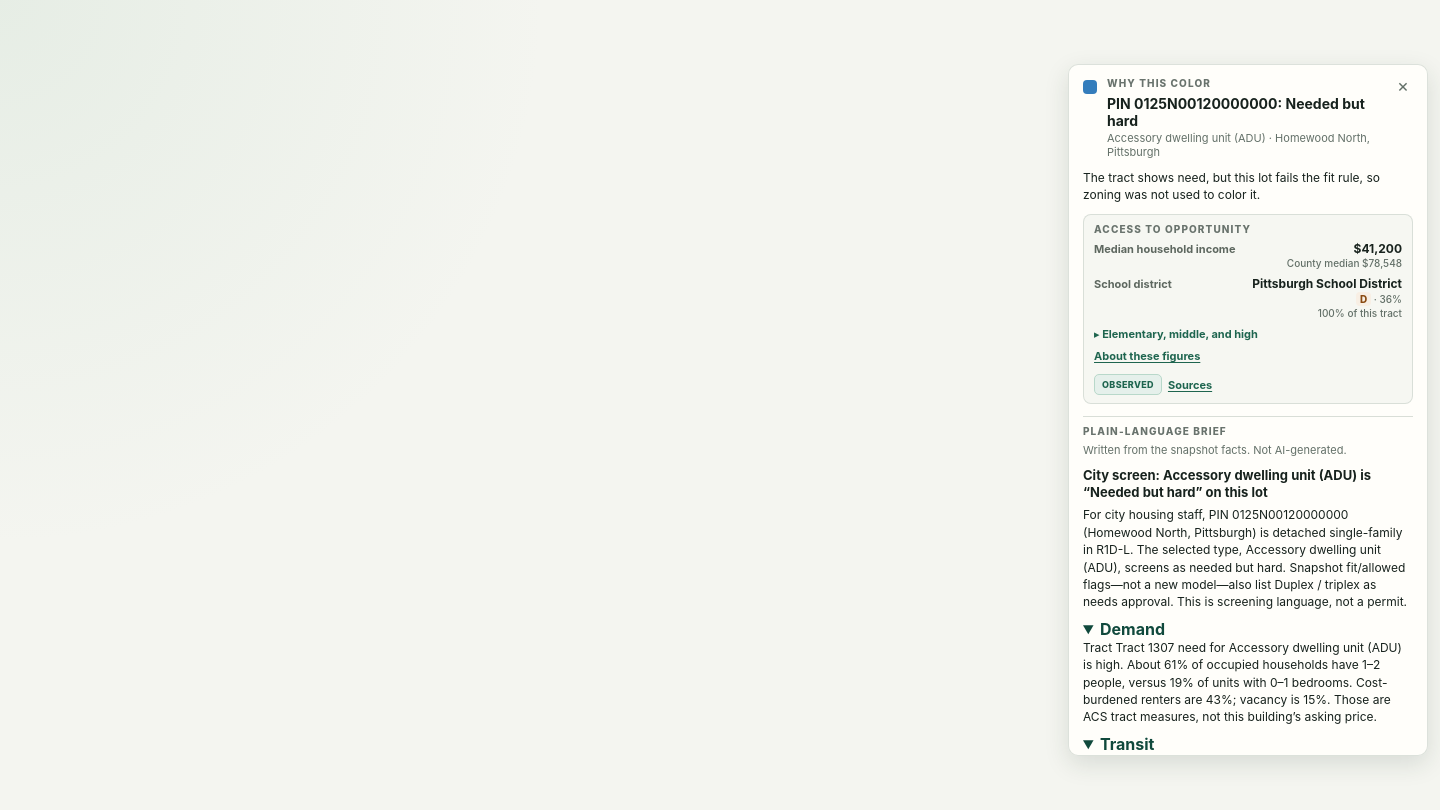
Test: ParcelCard › explains why the selected lot is that color
expect the heading "PIN 0125N00120000000: Needed but hard" is shown: met, box [1107, 95, 1383, 129]
expect the text "Median household income" is shown: met, box [1094, 242, 1236, 256]
Click the heading "Elementary, middle, and high". click: click(1180, 334)
box: [1102, 327, 1258, 341]
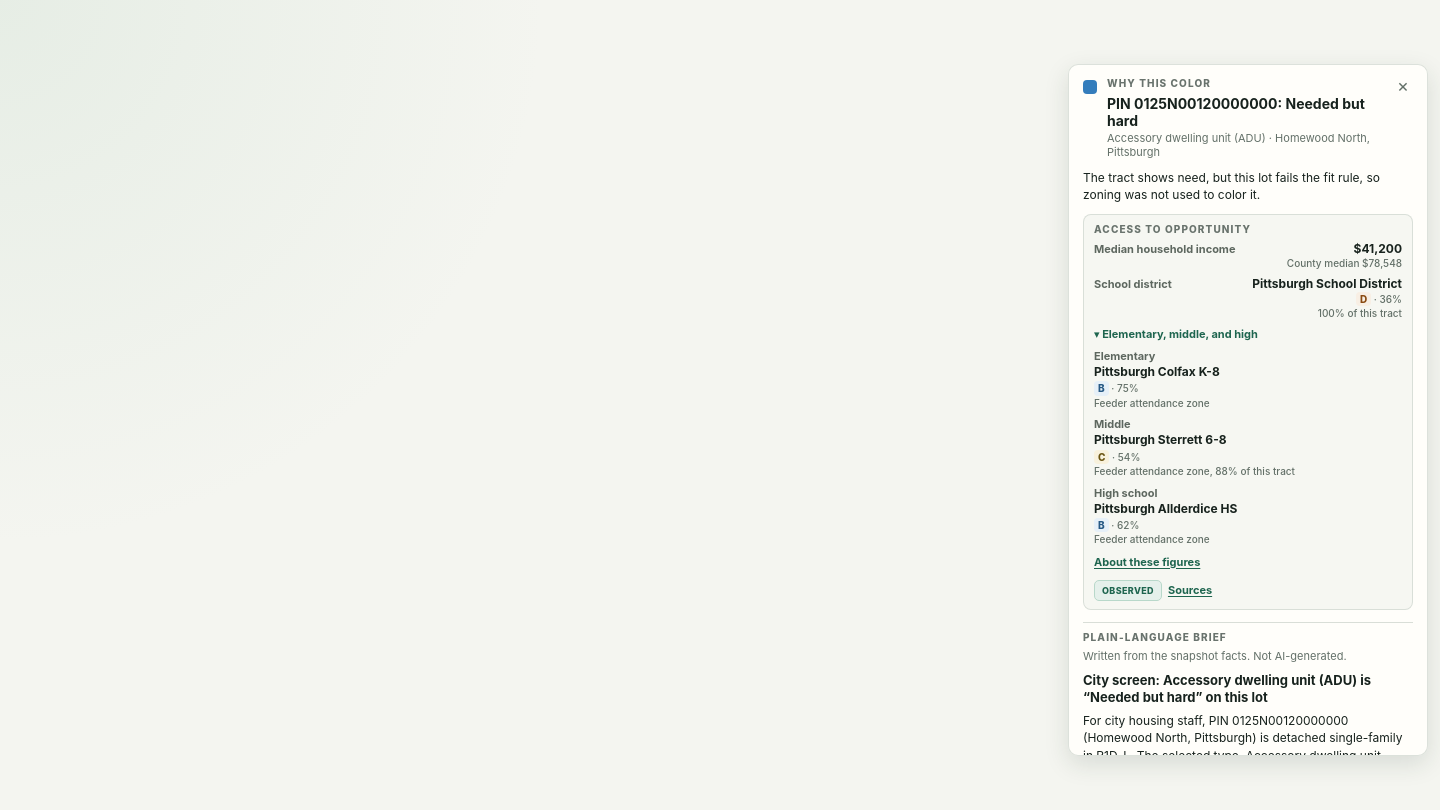
expect the text "Pittsburgh Colfax K-8" is shown: met, box [1094, 364, 1220, 379]
expect the text "Pittsburgh Sterrett 6-8" is shown: met, box [1094, 432, 1227, 448]
expect the text "Feeder attendance zone, 88% of this tract" is shown: met, box [1094, 465, 1295, 479]
Hover over the button "About these figures" at (1147, 562), box [1094, 555, 1200, 569]
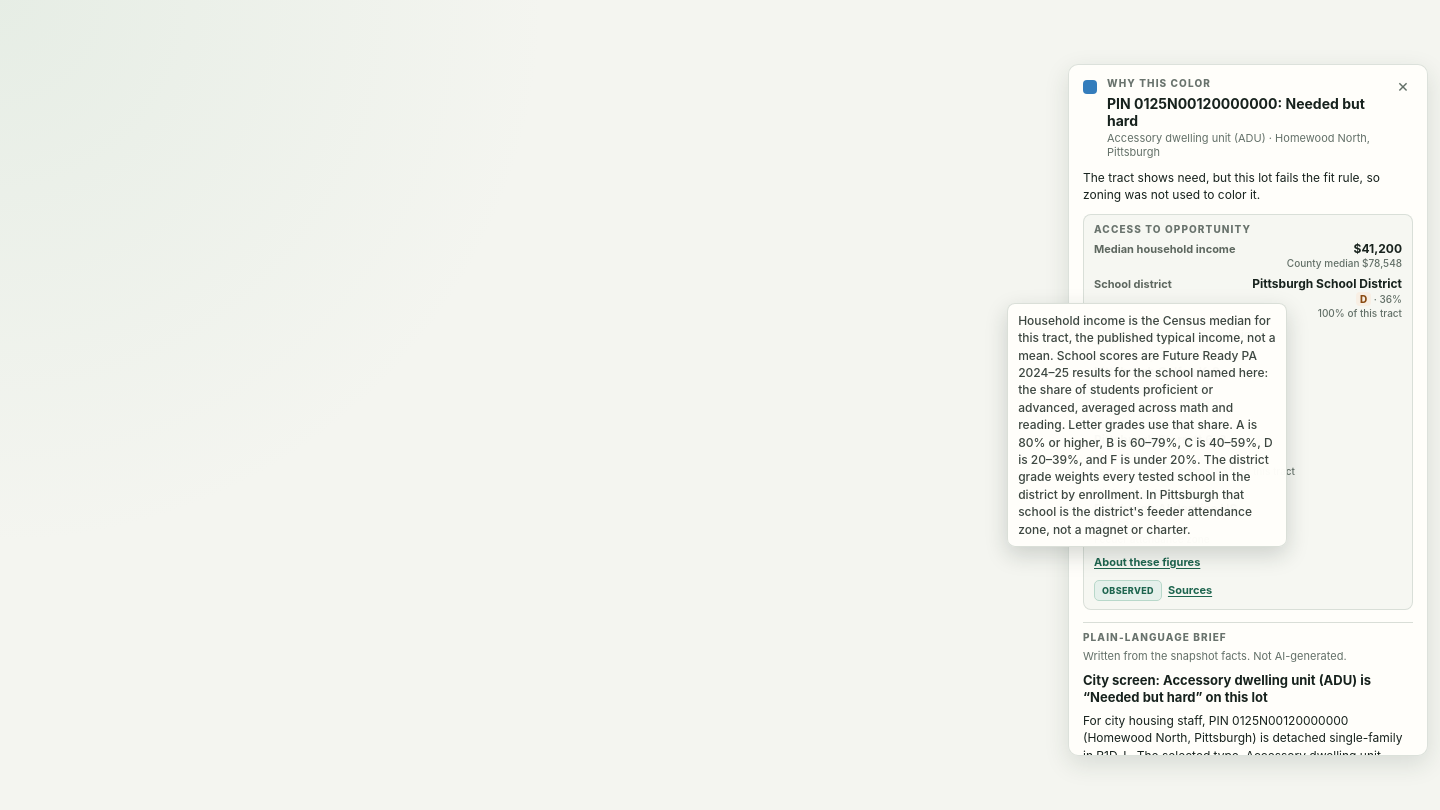
expect the tooltip shows "Census median": met, box [1018, 313, 1276, 536]
expect the tooltip shows "Future Ready PA 2024": met, box [1018, 313, 1276, 536]
expect the tooltip shows "A is 80% or higher": met, box [1018, 313, 1276, 536]
